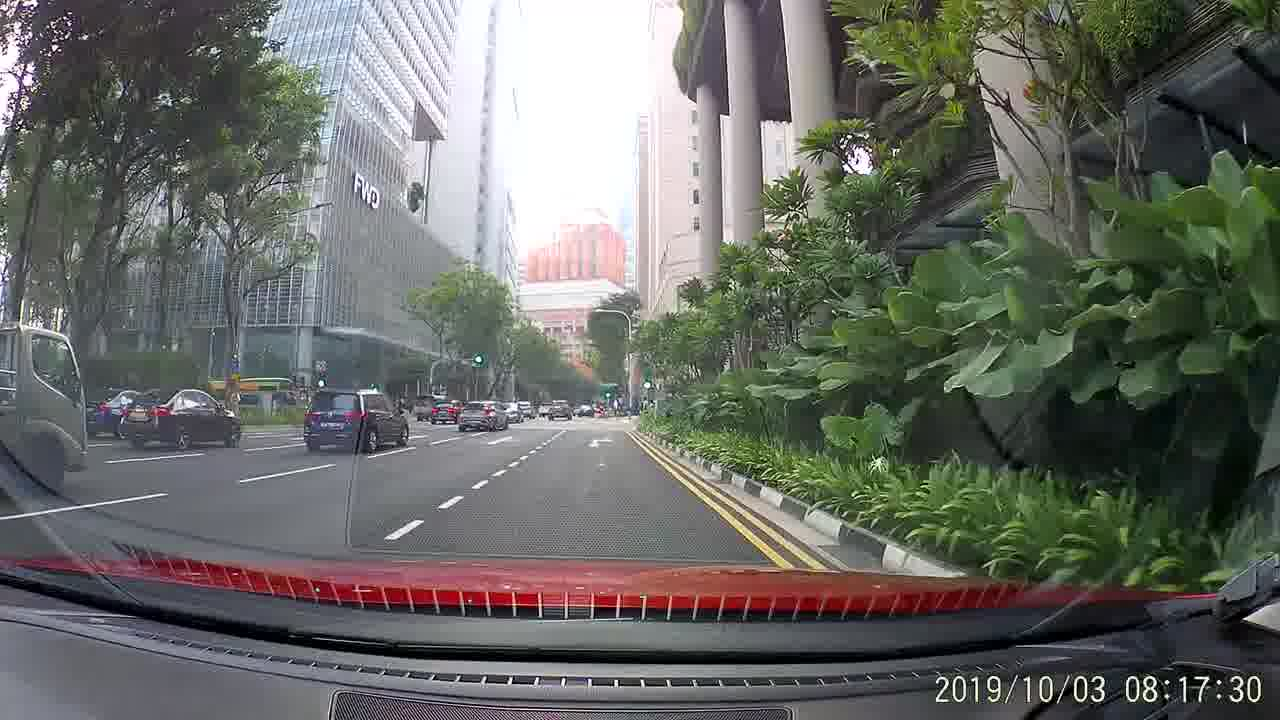car: (121, 385, 239, 452), (304, 383, 410, 452), (89, 385, 140, 442), (457, 401, 507, 433), (432, 396, 461, 426), (546, 400, 577, 424), (503, 402, 525, 425)
